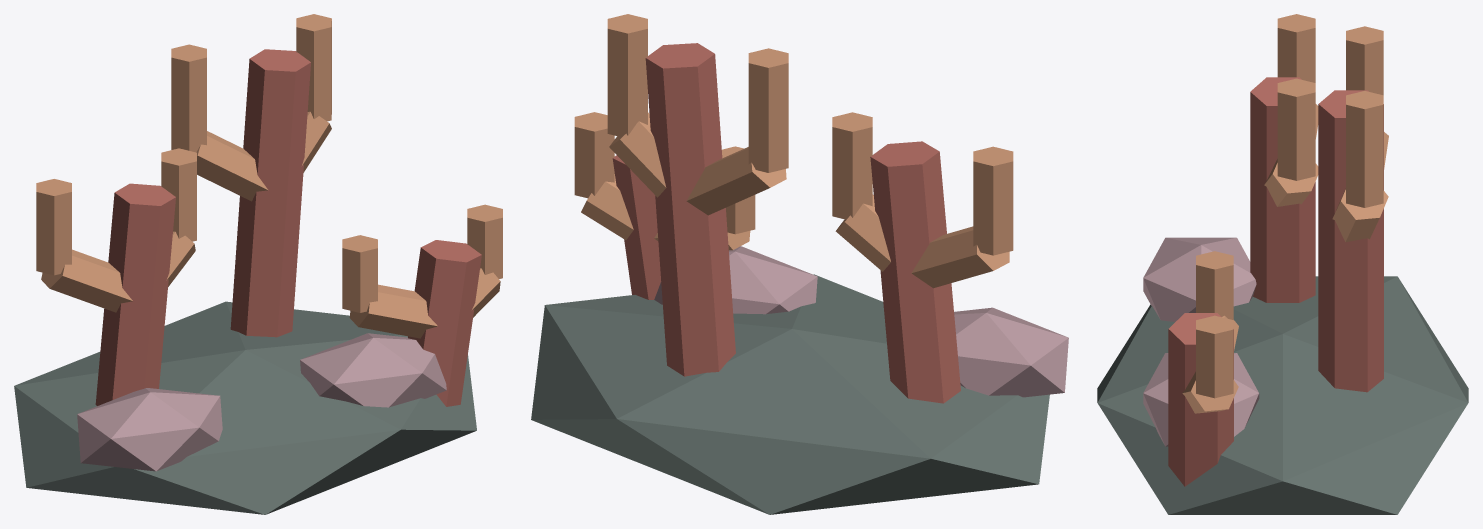
File: PirateCove_CoralCluster_Standard.glb
3 renders of one model, left to right at view 1: azimuth 30°, elevation 25°; view 2: azimuth 150°, elevation 25°; view 3: azimuth 270°, elevation 25°, orthographic. The views are drawn at different scales.
Parts seen in each view (by area): view 1: PirateCove_CoralCluster_Standard; view 2: PirateCove_CoralCluster_Standard; view 3: PirateCove_CoralCluster_Standard.
Boxes of the visible parts, x1,y1,x2,y2 form: PirateCove_CoralCluster_Standard: [14, 14, 502, 514]; PirateCove_CoralCluster_Standard: [531, 14, 1068, 514]; PirateCove_CoralCluster_Standard: [1097, 14, 1468, 514].
Size of the model in its own units: 1.99 by 1.67 by 1.36.
